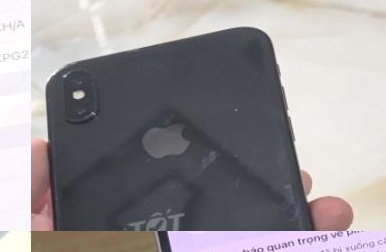scratch: (197, 126, 326, 231), (31, 186, 89, 231), (203, 91, 253, 127), (75, 57, 110, 92), (81, 99, 114, 130), (142, 52, 173, 74)
